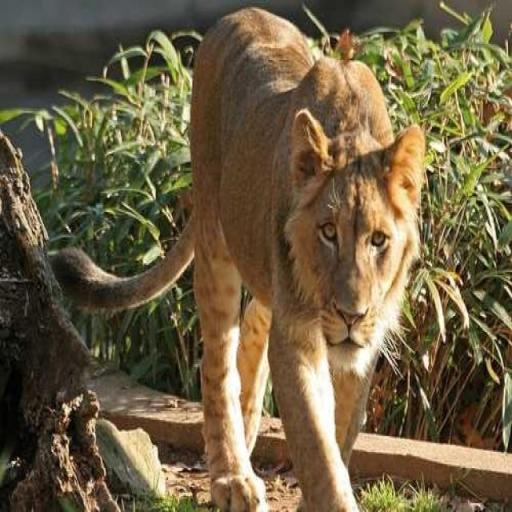Lion: (48, 6, 427, 510)
